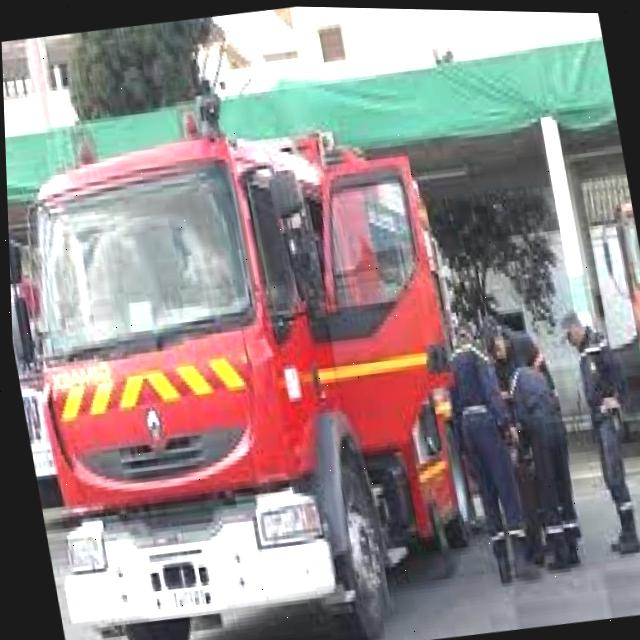emergency: (1, 49, 499, 640)
